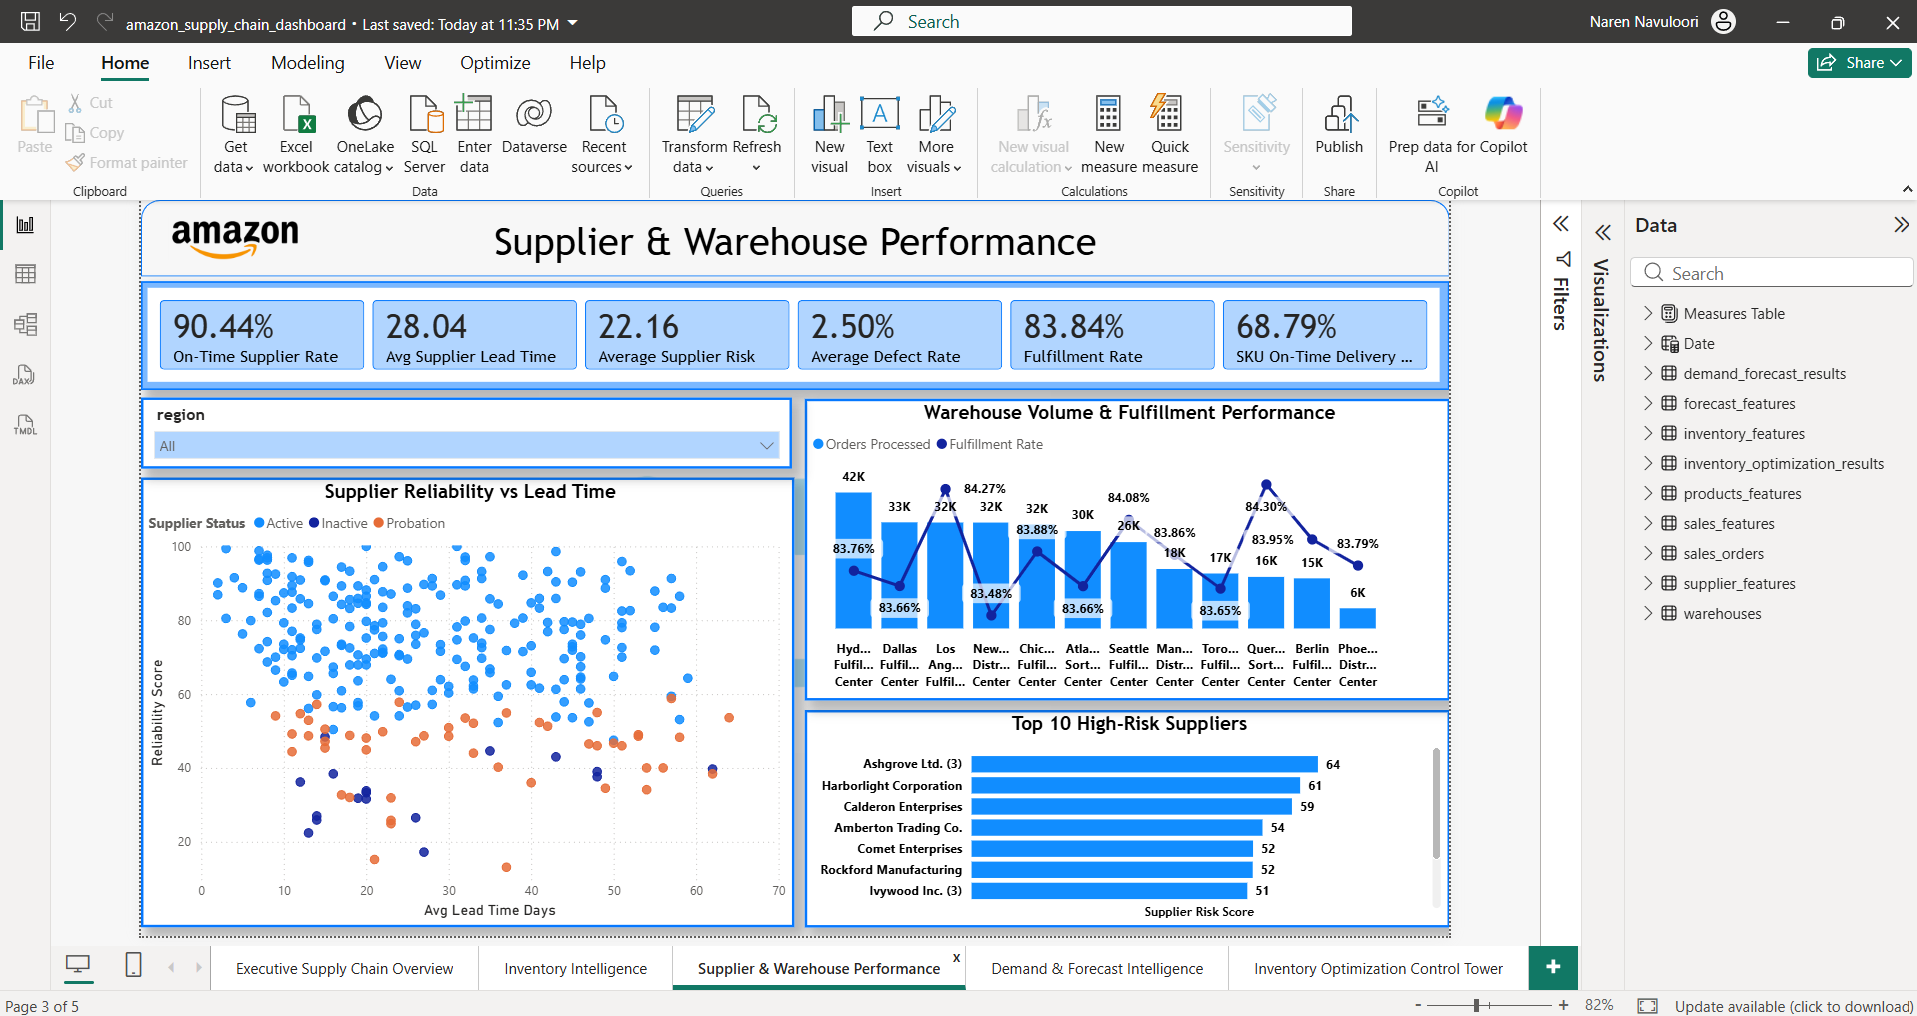

This screenshot's page, from the dashboard's own definition file:
{"tool":"powerbi","page":{"name":"Supplier & Warehouse Performance","canvas":[1280,720],"ordinal":2},"visuals":[{"type":"shape","box":[0,0,1280.2,74.9],"z":0},{"type":"image","box":[11,17.1,160.2,41.6],"z":1000},{"type":"cardVisual","fields":{"Data":["Measures Table.On-Time Supplier Rate","Measures Table.Average Supplier Lead Time","Measures Table.Average Supplier Risk","Measures Table.Average Defect Rate","Measures Table.Fulfillment Rate","Measures Table.Warehouse On-Time Delivery Rate"]},"box":[0,79.5,1280.3,106.4],"z":2000},{"type":"scatterChart","title":"Supplier Reliability vs Lead Time","fields":{"X":["supplier_features.average_lead_time_days"],"Y":["supplier_features.reliability_score"],"Series":["supplier_features.supplier_status"]},"box":[0,272,639.5,439.8],"z":5000},{"type":"clusteredBarChart","title":"Top 10 High-Risk Suppliers","fields":{"Category":["supplier_features.supplier_name"],"Y":["Sum(supplier_features.supplier_risk_score)"]},"box":[649.3,498.6,630.9,213.2],"z":5001},{"type":"lineClusteredColumnComboChart","title":"Warehouse Volume & Fulfillment Performance","fields":{"Category":["warehouses.warehouse_name"],"Y":["Measures Table.Orders Processed"],"Y2":["Measures Table.Fulfillment Rate"]},"box":[649.3,194.8,630.9,295.3],"z":5002},{"type":"slicer","fields":{"Values":["warehouses.region"]},"box":[0,192.6,637,69.2],"z":5003}]}

Visuals, with their boxes on the page's 1280x720 design canvas (x1, y1, x2, y2). These are canvas units, not pixel positions in the 1917x1016 screenshot, which may show the page scaled, cropped or inside an application window:
shape: 0, 0, 1280, 75
image: 11, 17, 171, 59
cardVisual - Measures Table.On-Time Supplier Rate x Measures Table.Average Supplier Lead Time: 0, 80, 1280, 186
"Supplier Reliability vs Lead Time" scatterChart: 0, 272, 640, 712
"Top 10 High-Risk Suppliers" clusteredBarChart: 649, 499, 1280, 712
"Warehouse Volume & Fulfillment Performance" lineClusteredColumnComboChart: 649, 195, 1280, 490
slicer - warehouses.region: 0, 193, 637, 262
